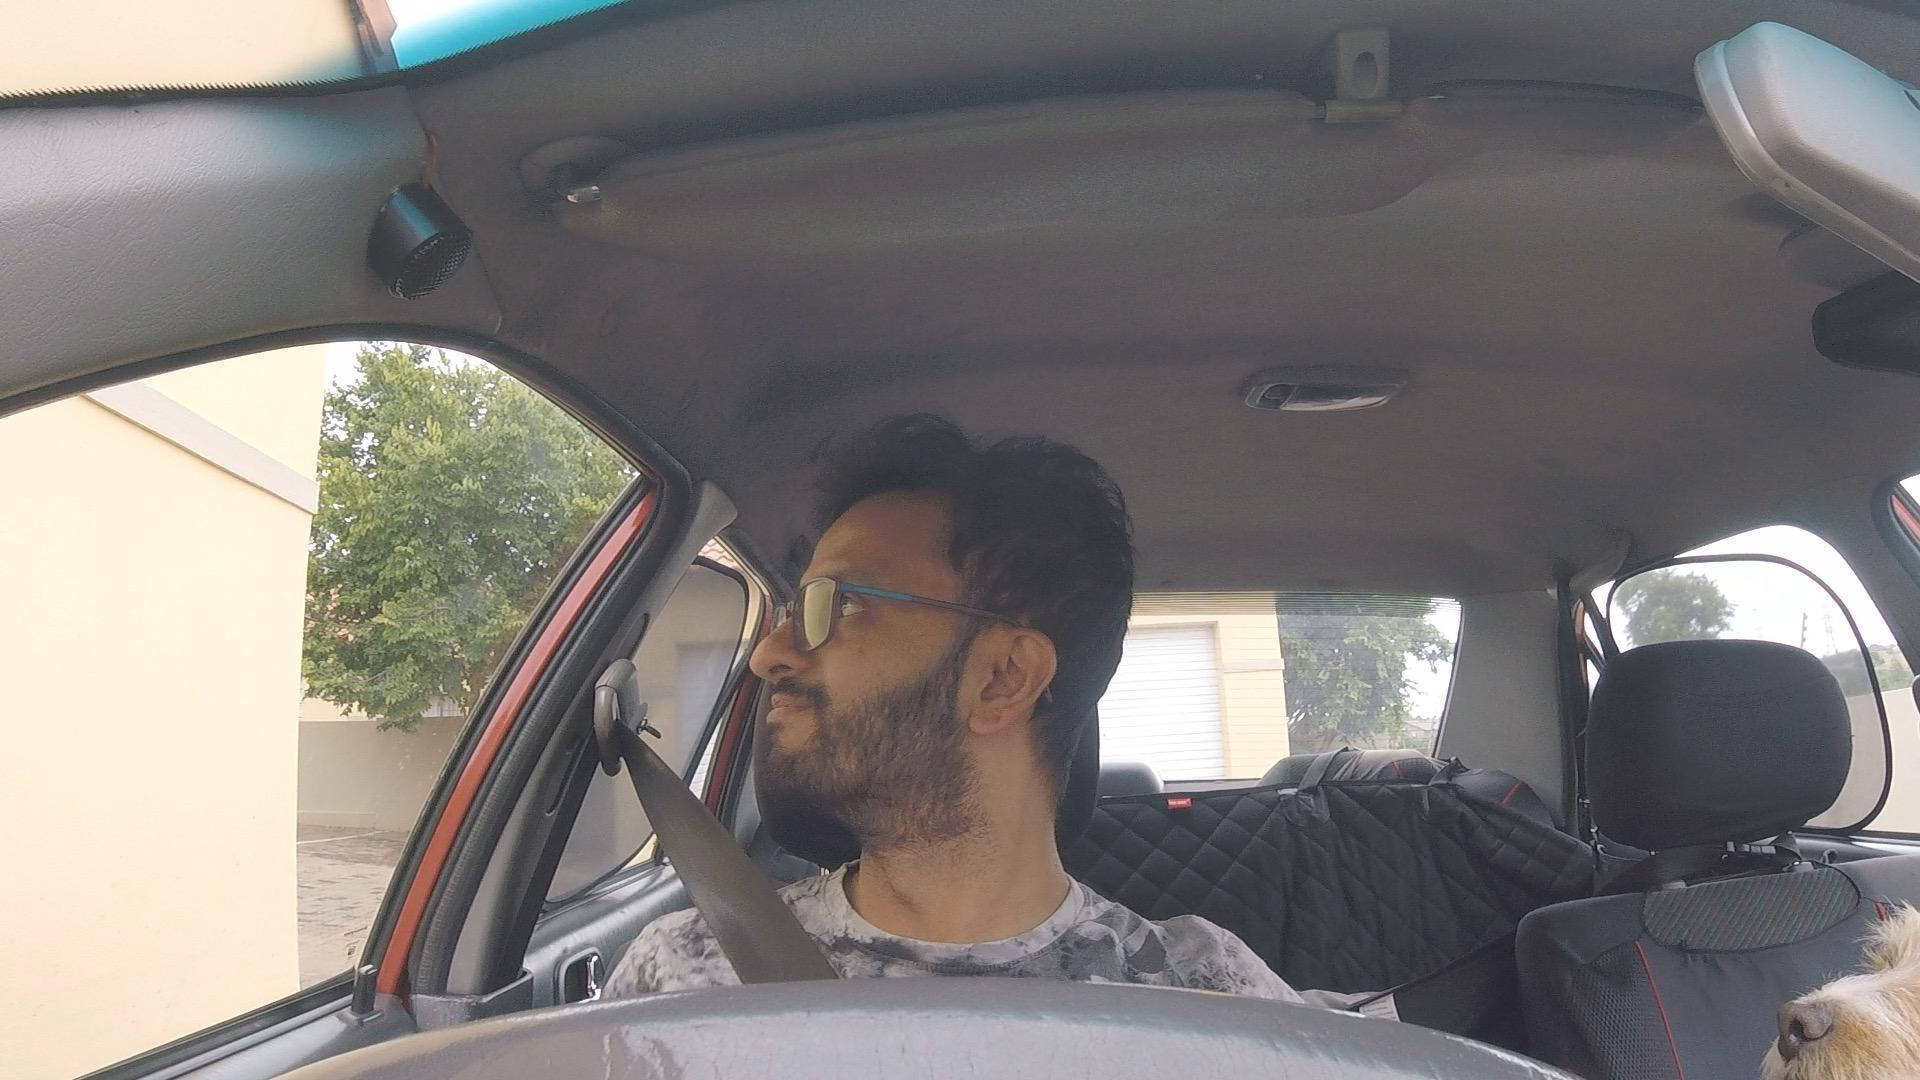SafeDriving: (746, 411, 1139, 857)
